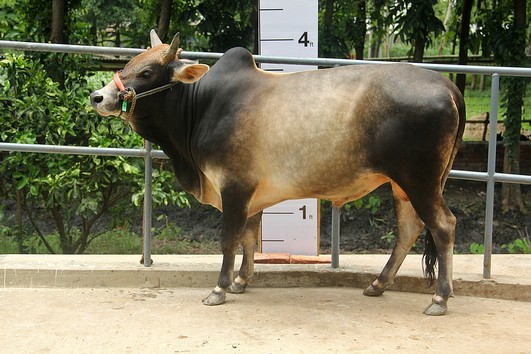cow: (87, 27, 475, 321)
